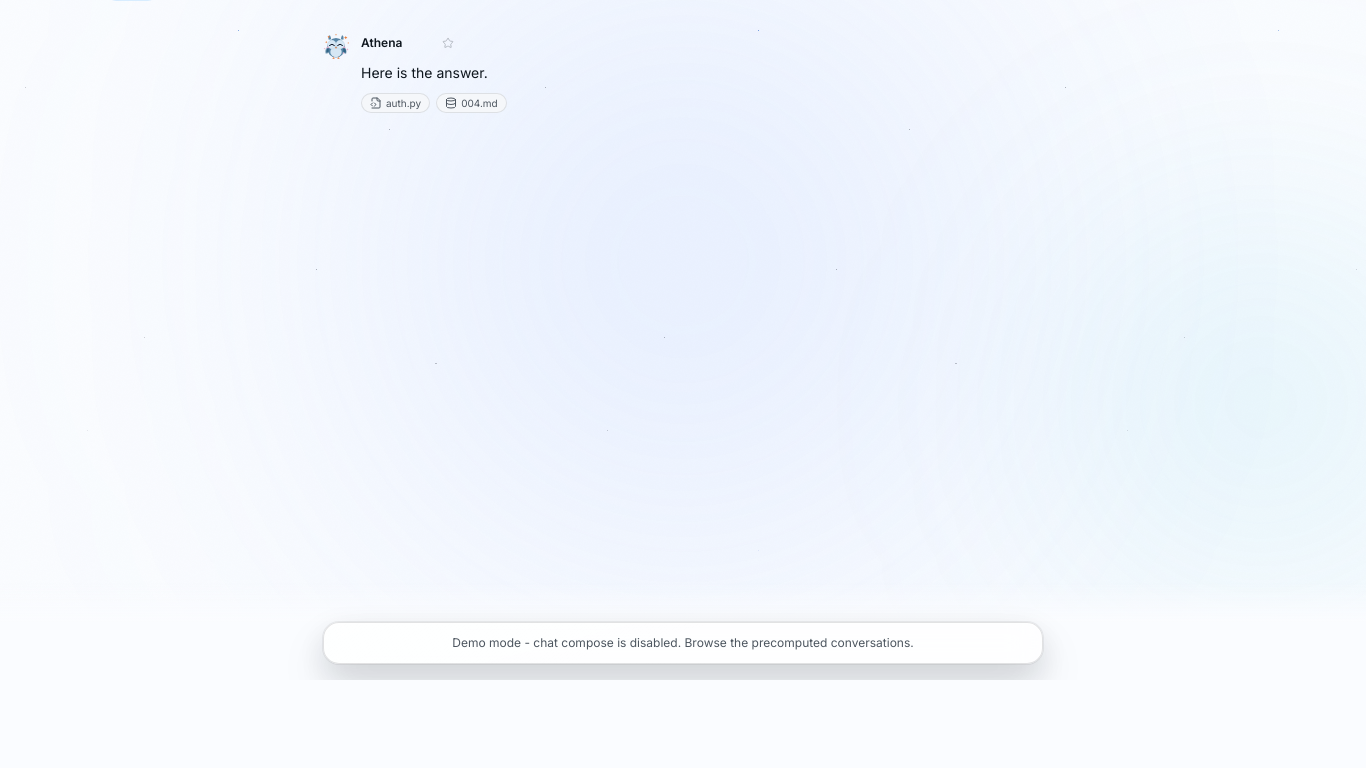
Test: /chat page · citation chips › renders citations as clickable chips that open a shared drawer
Click the button with test id "citation-chip" at (396,103), box [361,93,430,113]
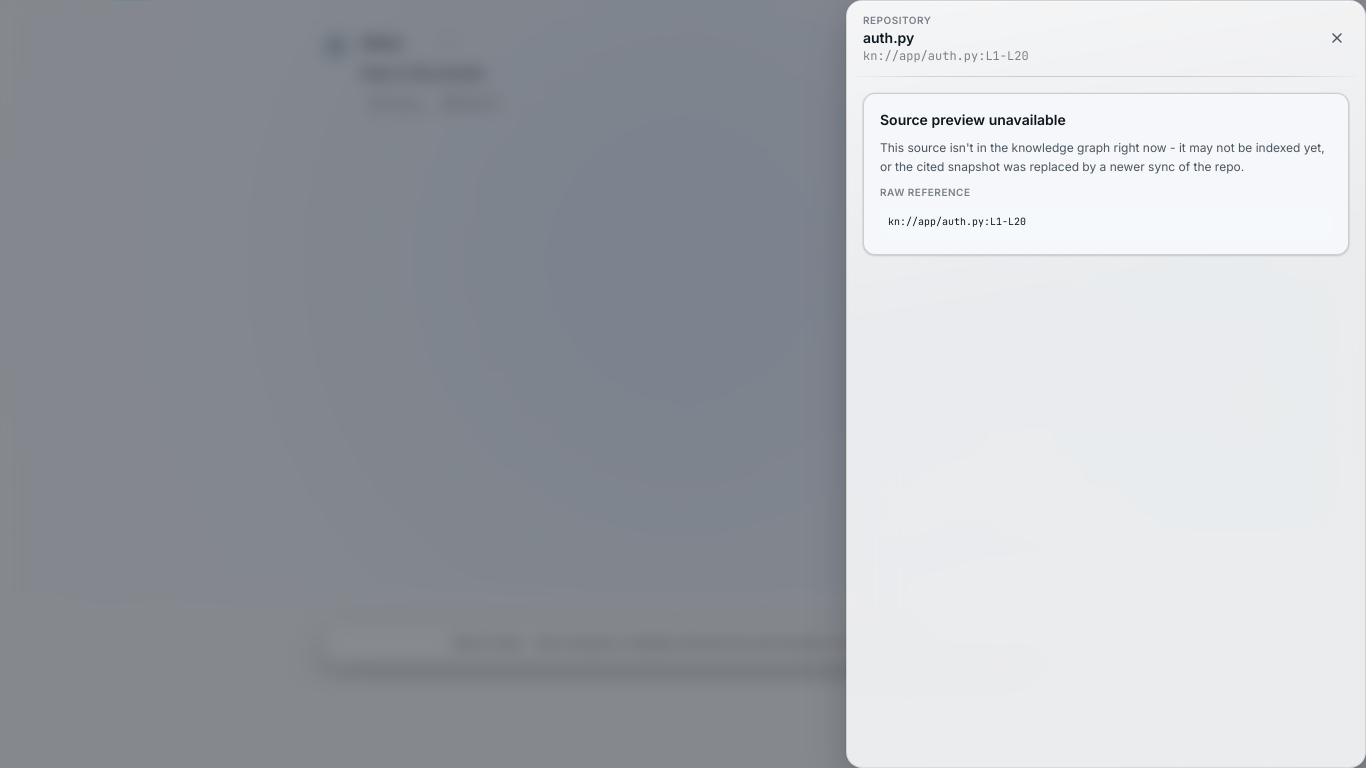
expect the dialog with test id "citation-drawer" is shown: met
expect the dialog with test id "citation-drawer" shows "kn://app/auth.py:L1-L20": met, box [863,48,1029,64]
